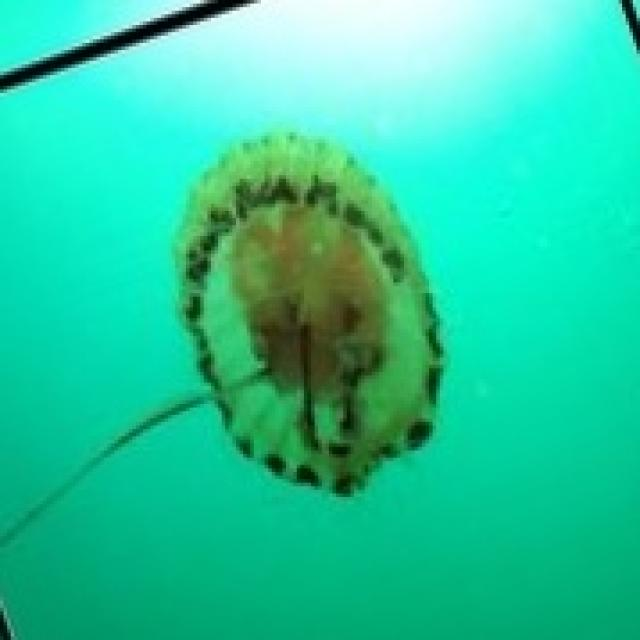Jellyfish: (107, 115, 486, 528)
